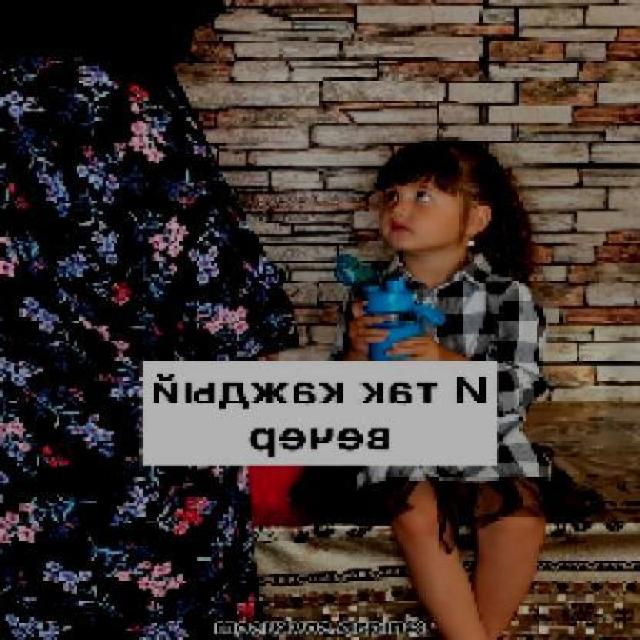child: (288, 134, 563, 637)
